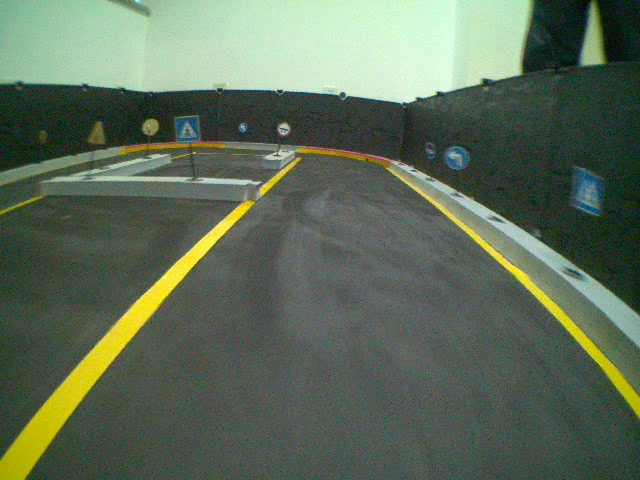Check: (277, 120, 291, 137)
crossing: (571, 165, 606, 217), (175, 115, 201, 143)
turn: (447, 143, 470, 172)
